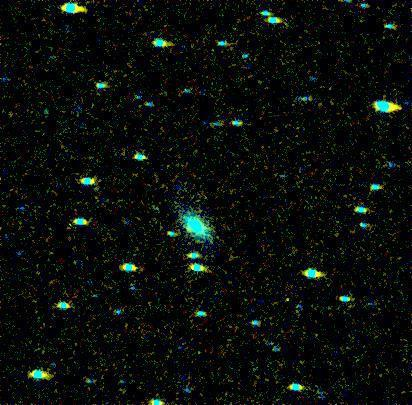star: (172, 213, 202, 243)
